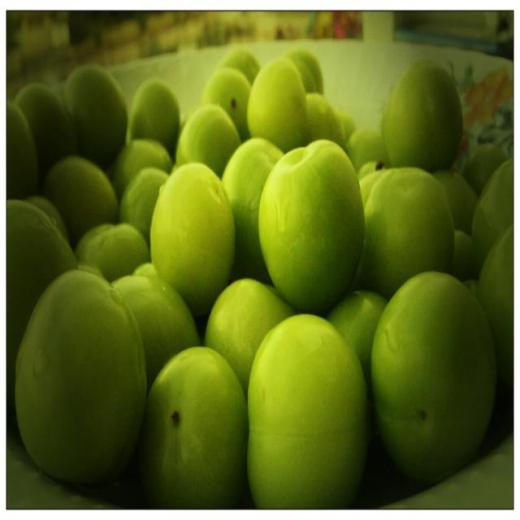Apple: (6, 50, 514, 509)
